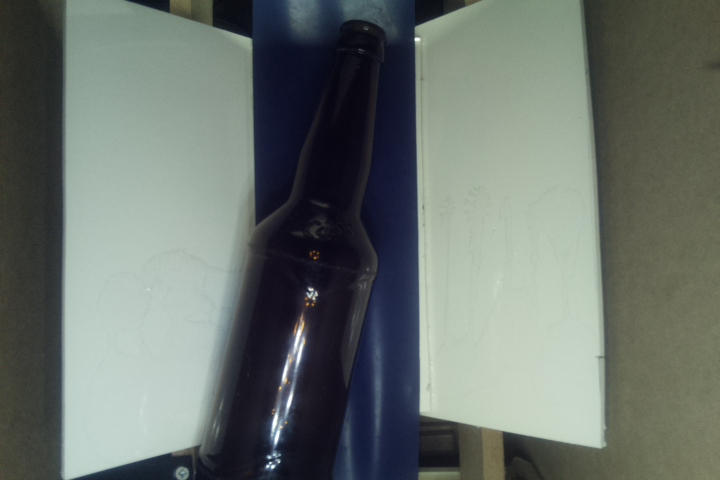makju: (195, 19, 384, 480)
